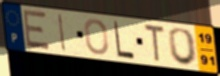E: (22, 8, 52, 52)
I: (57, 12, 68, 53)
L: (112, 19, 136, 61)
O: (168, 27, 200, 68), (83, 18, 111, 57)
T: (143, 22, 166, 65)
